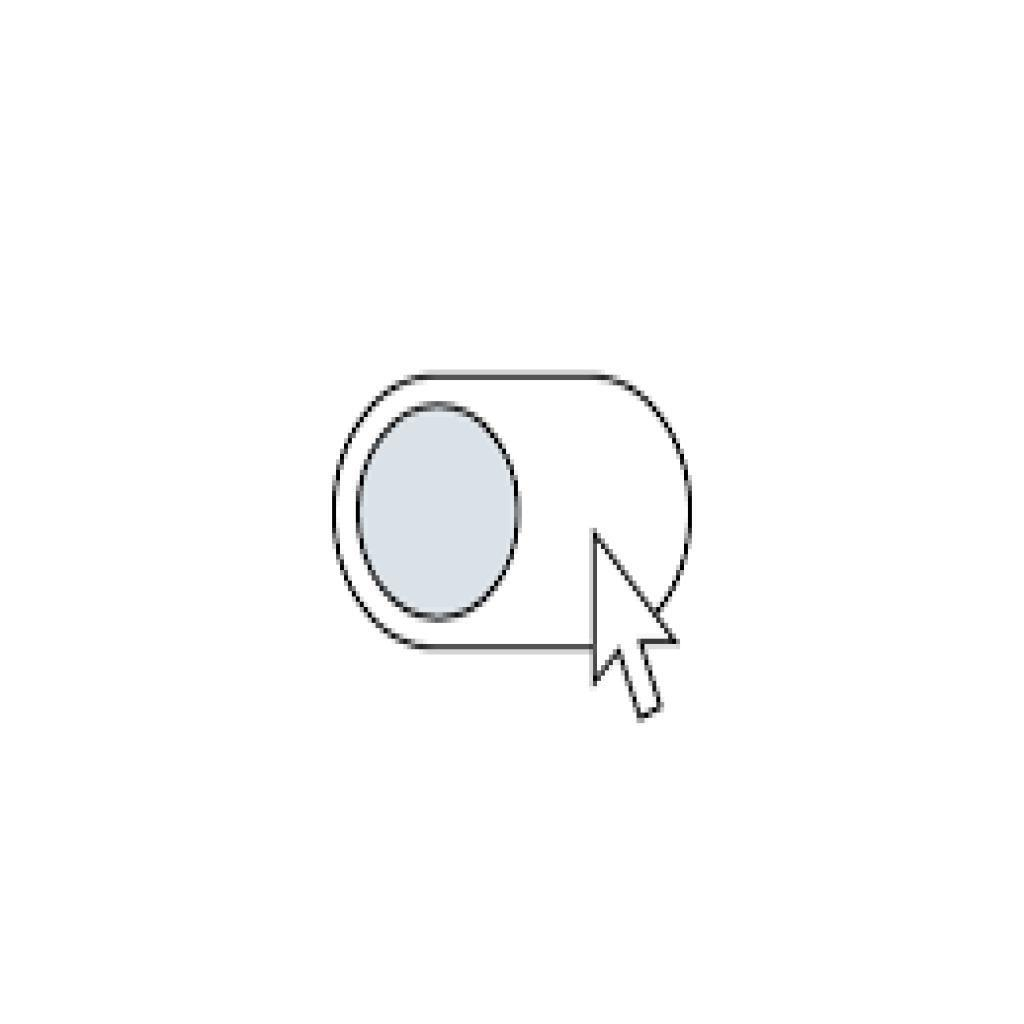switch: (333, 365, 694, 658)
